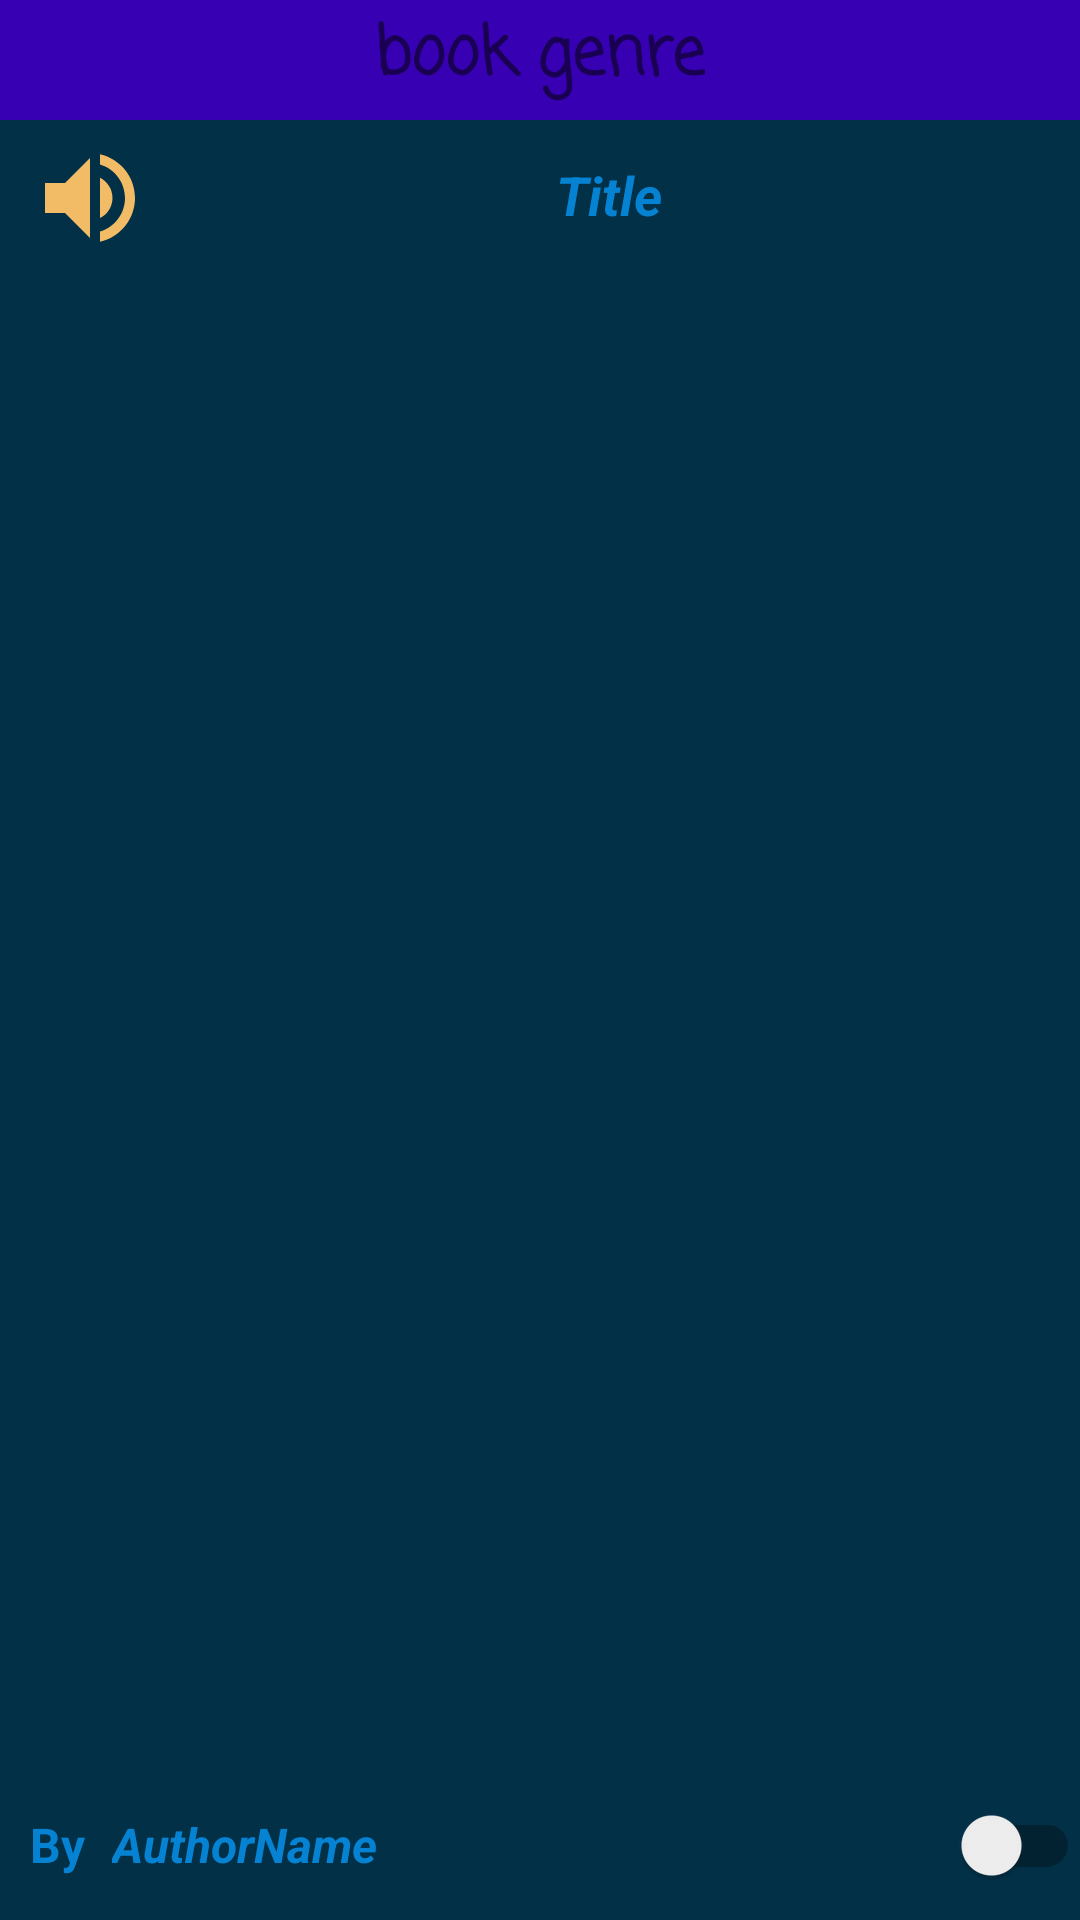

Named icons in this screenshot (1080w x 1920h) and their bounding boxes, (x1, y1, x2, y2):
volume up: (45, 154, 135, 242)
